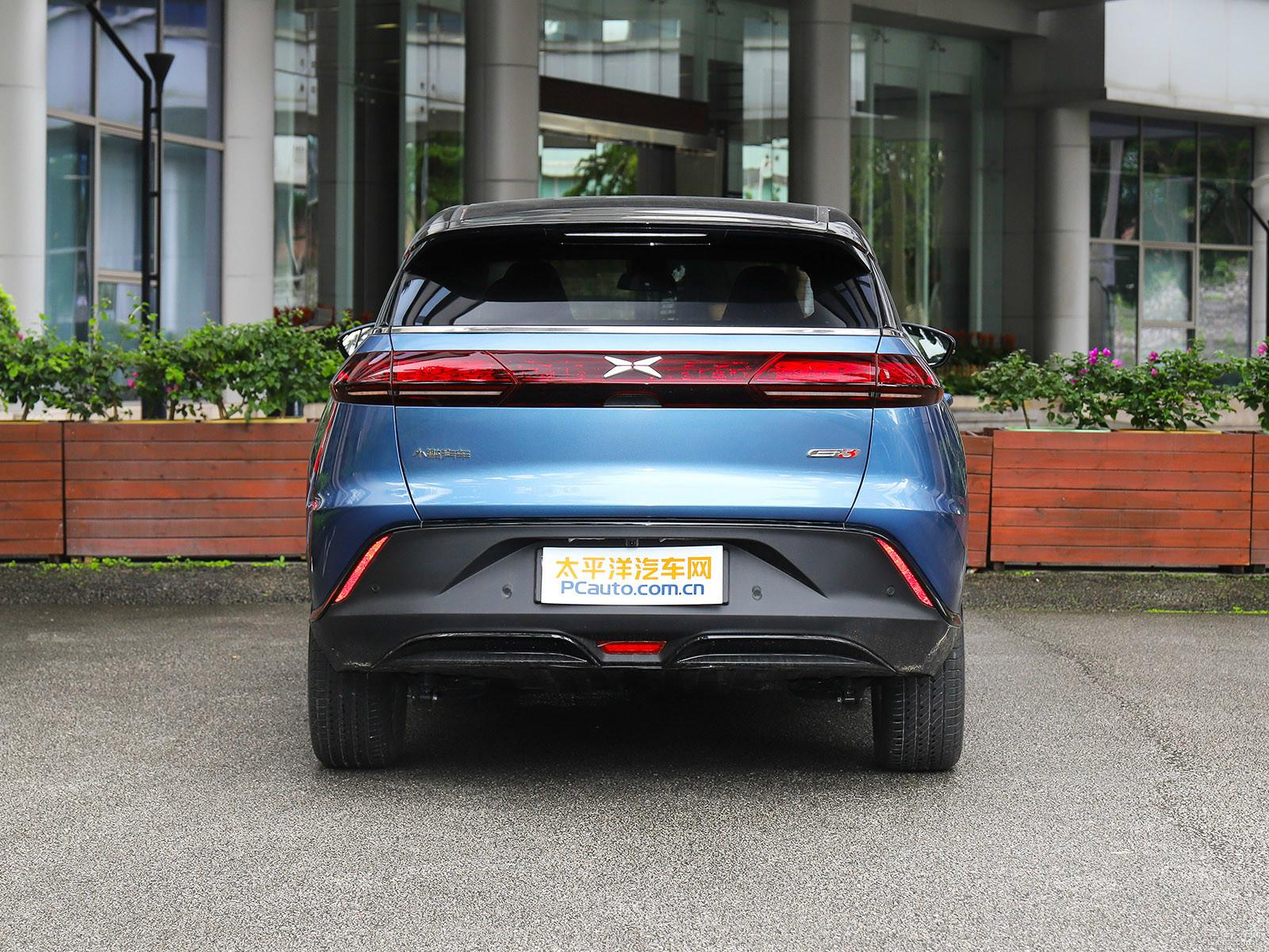XPeng Motors: (603, 355, 662, 379)
